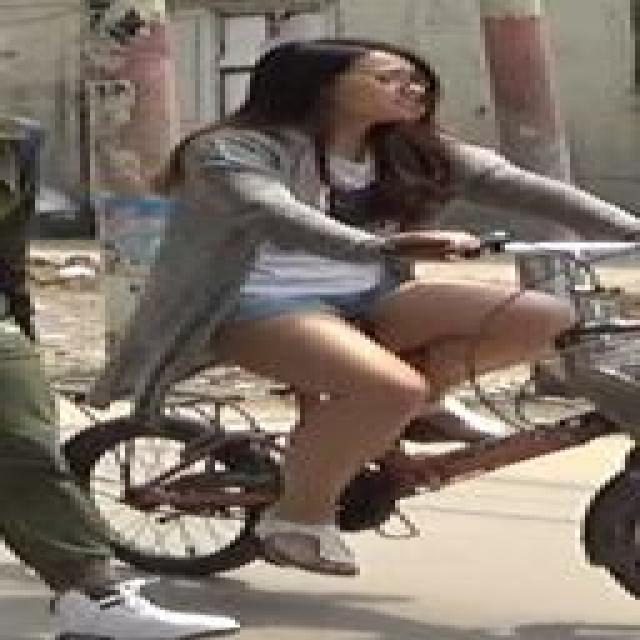adult: (89, 36, 607, 561)
